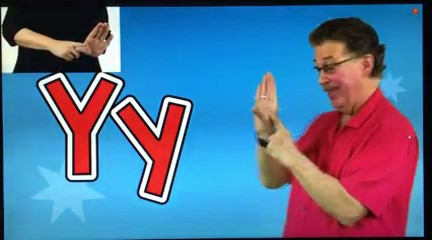Y: (247, 67, 304, 173)
